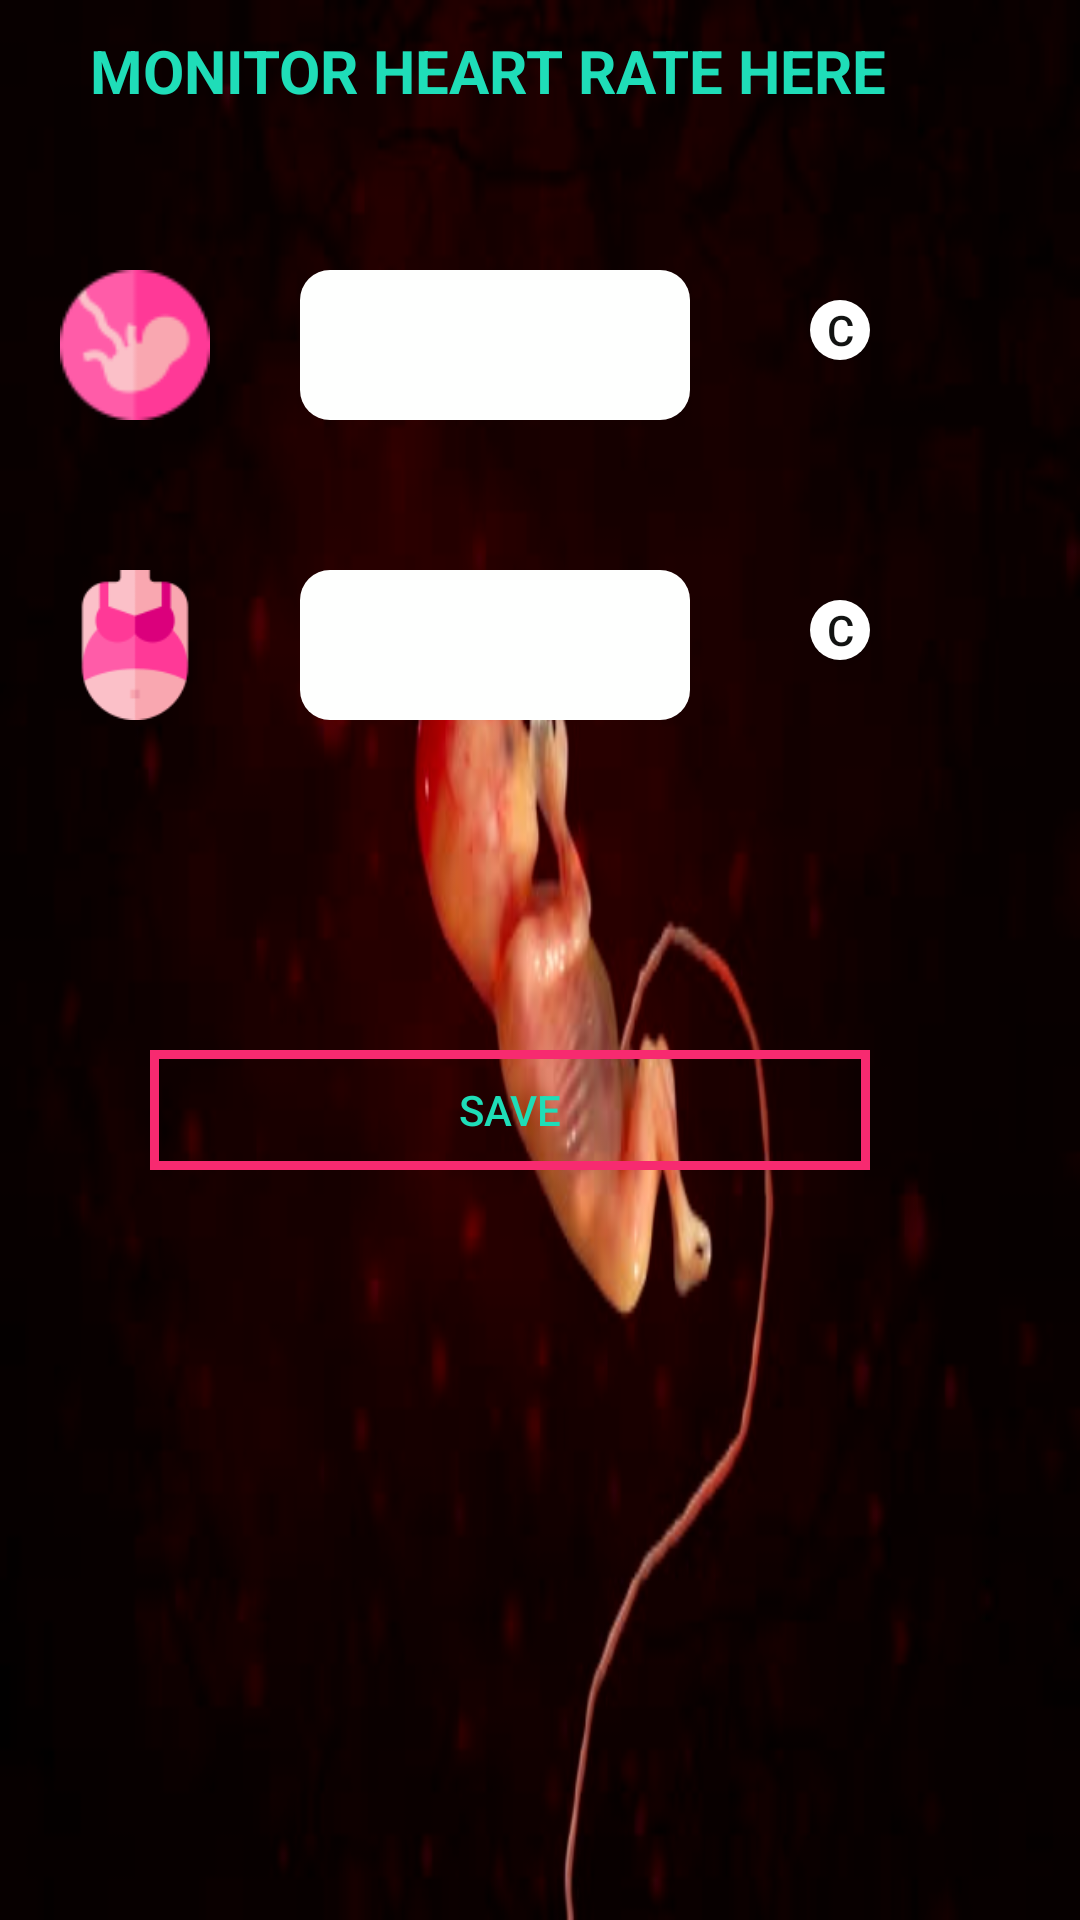

Where icons sit on this 1080w x 1920h app screen, as bbox=(x1, y1, x2, y2):
fetus: bbox=(60, 270, 210, 420)
mother: bbox=(81, 570, 189, 720)
